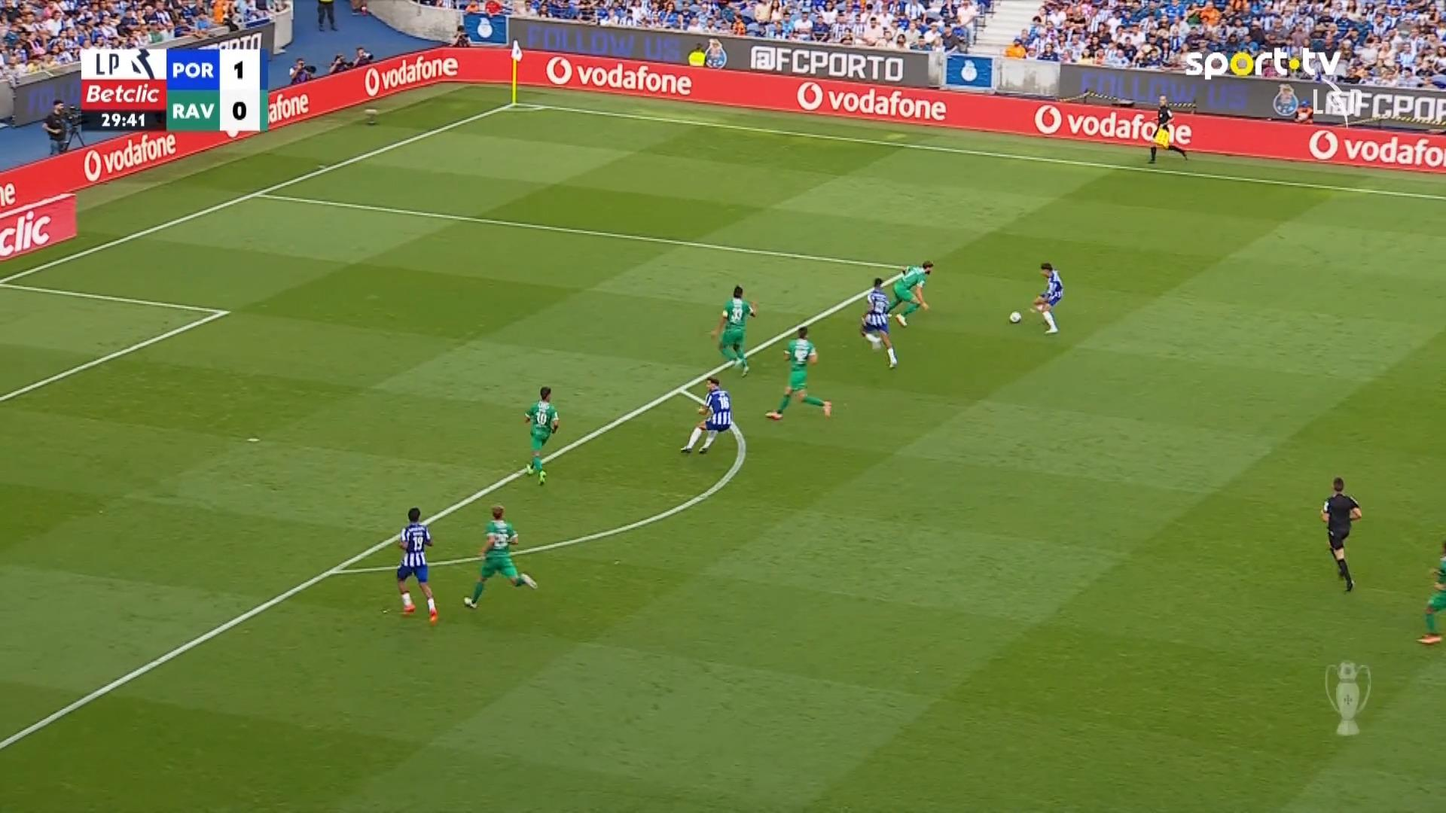ball: (1008, 311, 1020, 323)
player: (462, 504, 538, 609), (764, 325, 831, 420), (395, 506, 438, 623), (709, 284, 757, 377), (679, 376, 733, 454), (522, 385, 560, 486), (858, 276, 898, 369), (885, 260, 933, 327), (1416, 539, 1444, 644), (1030, 261, 1063, 334)
referee: (1319, 476, 1362, 592), (1146, 93, 1188, 164)
